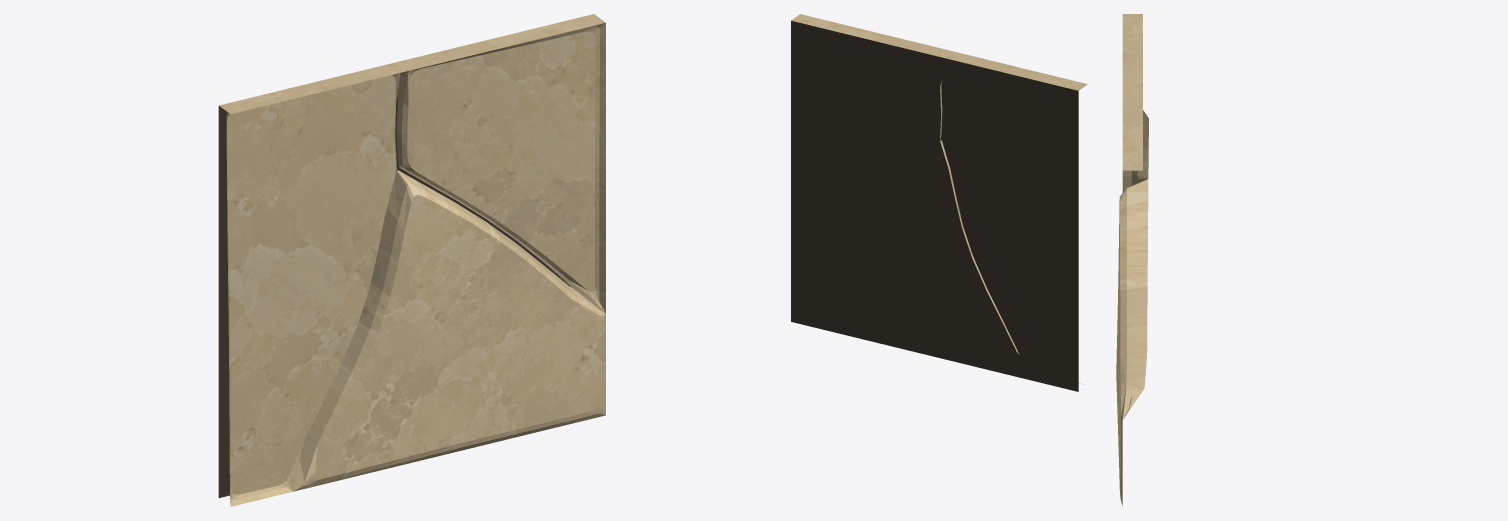
Rendered from ground_square_edge_09.glb.
The picture shows the model from 3 angles, left to right: view 1: azimuth 30°, elevation 25°; view 2: azimuth 150°, elevation 25°; view 3: azimuth 270°, elevation 25°; orthographic projection. The views are drawn at different scales.
Parts seen in each view (by area): view 1: GroundSquareEdge09_Body; view 2: GroundSquareEdge09_Body; view 3: GroundSquareEdge09_Body.
Part boxes in pixels (left/top/right/bottom): GroundSquareEdge09_Body: left=218, top=14, right=605, bottom=506; GroundSquareEdge09_Body: left=791, top=14, right=1087, bottom=391; GroundSquareEdge09_Body: left=1116, top=14, right=1148, bottom=505.
Size of the model in its own units: 1 by 1 by 1.02.
5 materials, 4 textured.
